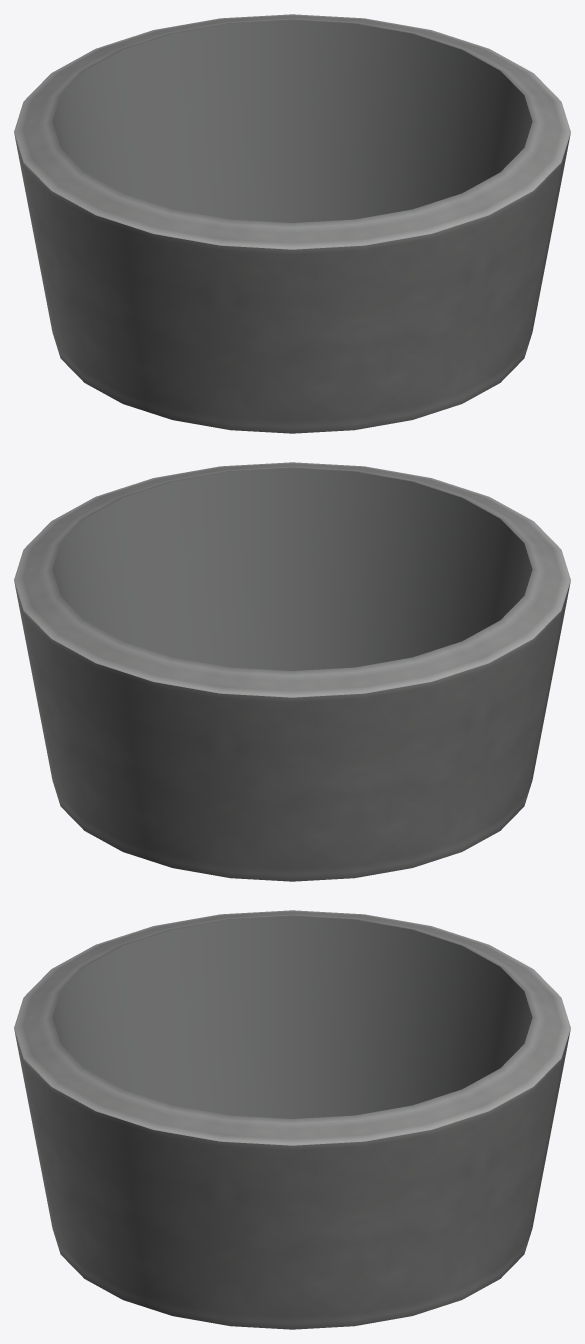
Rendered from sputnik_fairing.obj.
3 renders of one model, top to bottom at view 1: azimuth 30°, elevation 25°; view 2: azimuth 150°, elevation 25°; view 3: azimuth 270°, elevation 25°, orthographic.
Visible parts, largest first — view 1: fairing; view 2: fairing; view 3: fairing.
Boxes of the visible parts, left/top/right/bottom form: fairing: left=14, top=14, right=570, bottom=433; fairing: left=14, top=462, right=570, bottom=881; fairing: left=14, top=910, right=570, bottom=1329.
Bounding box in the file's own units: 0.3625 × 0.1513 × 0.3625.
Materials: 1 (1 with a texture image).
